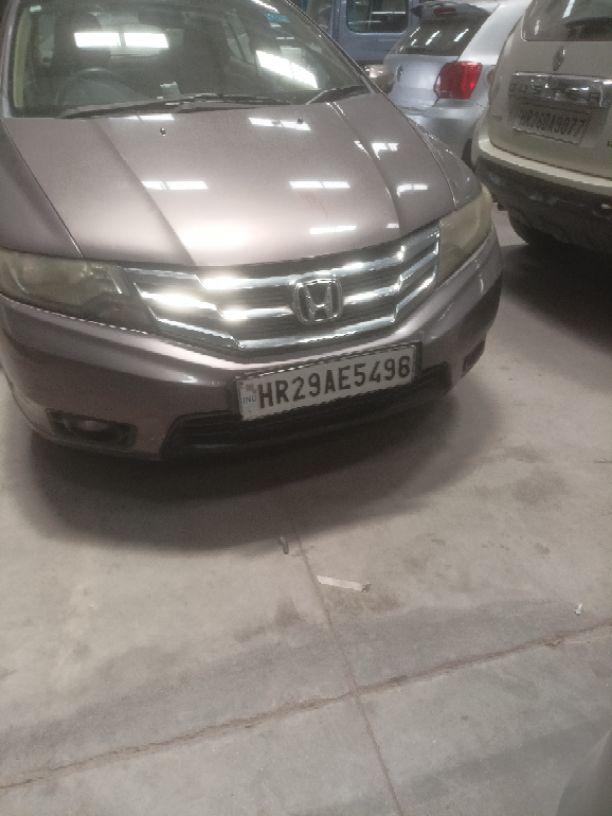license_plate: (233, 341, 419, 422)
